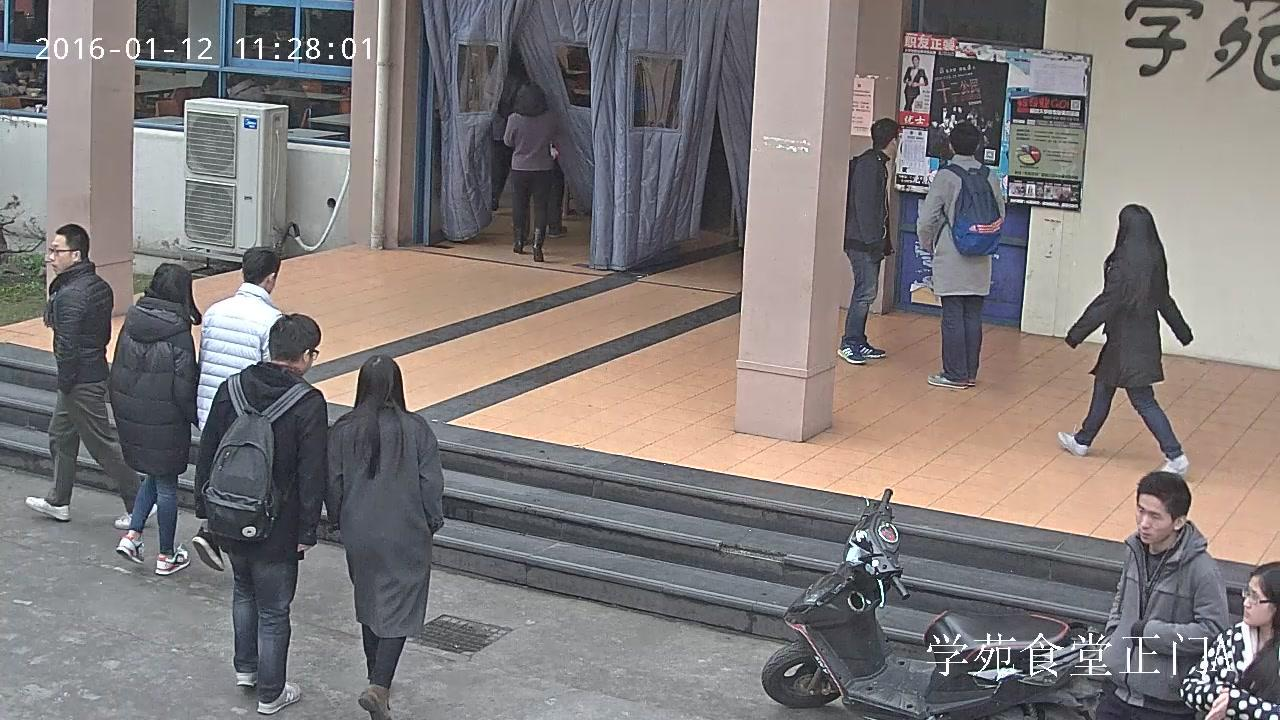person: (192, 315, 328, 714), (325, 354, 445, 718), (23, 223, 158, 530), (1055, 204, 1194, 472), (1093, 472, 1227, 720), (190, 248, 285, 573), (106, 264, 204, 576), (915, 119, 1003, 387), (1178, 560, 1278, 720), (837, 116, 900, 364), (503, 81, 555, 261), (903, 55, 927, 111), (0, 58, 33, 96), (224, 73, 266, 101)
